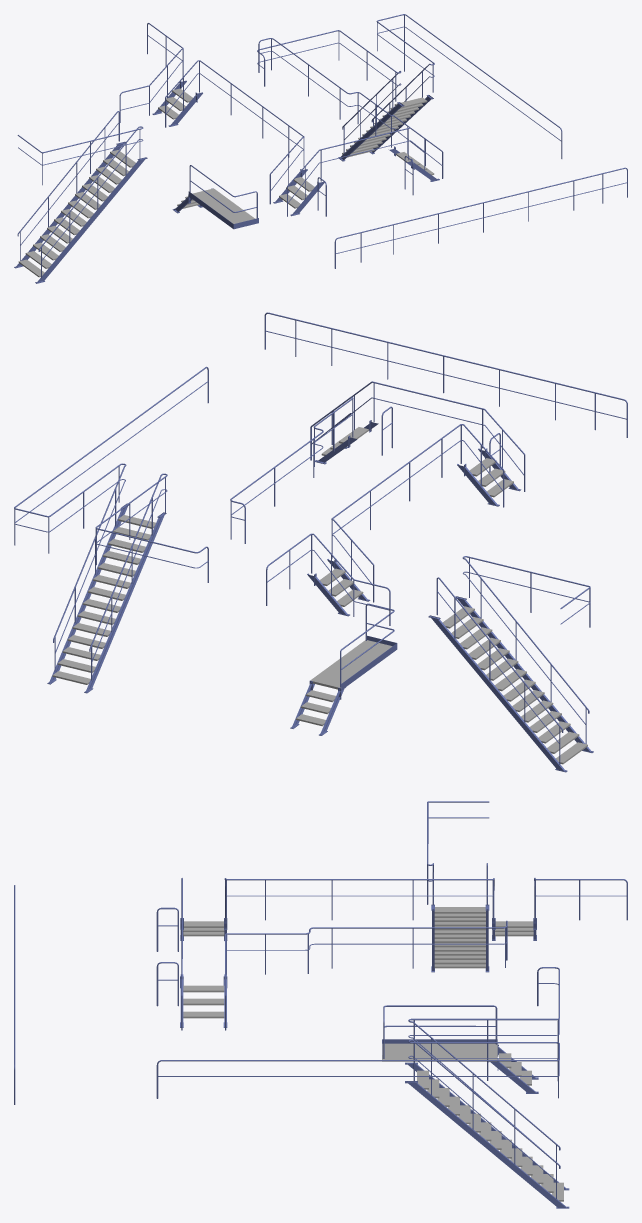
Rendered from Stairs-Rails.fbx.
3 renders of one model, top to bottom at view 1: azimuth 30°, elevation 25°; view 2: azimuth 150°, elevation 25°; view 3: azimuth 270°, elevation 25°, orthographic. The views are drawn at different scales.
Visible parts, largest first — view 1: Stairs-Rails, Stairs-Grates; view 2: Stairs-Rails, Stairs-Grates; view 3: Stairs-Rails, Stairs-Grates.
Part boxes in pixels (x1,y1,x2,y2): Stairs-Rails: (14,14,627,283); Stairs-Grates: (18,88,434,277); Stairs-Rails: (14,312,627,772); Stairs-Grates: (52,427,587,764); Stairs-Rails: (14,801,627,1208); Stairs-Grates: (183,907,563,1201).
Size of the model in its own units: 1330 by 476 by 1290.
